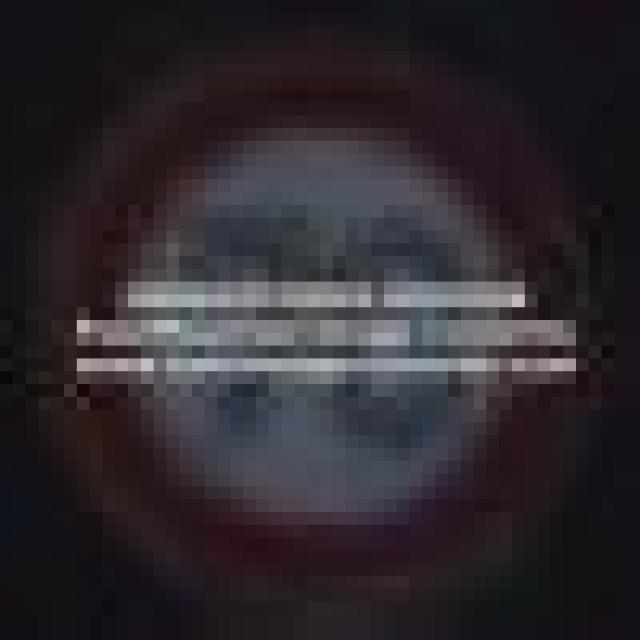SPEED_LIMIT_70: (38, 51, 589, 589)
